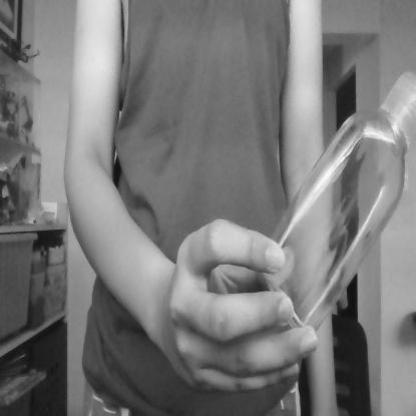Plastic Bottle: (260, 62, 416, 339)
